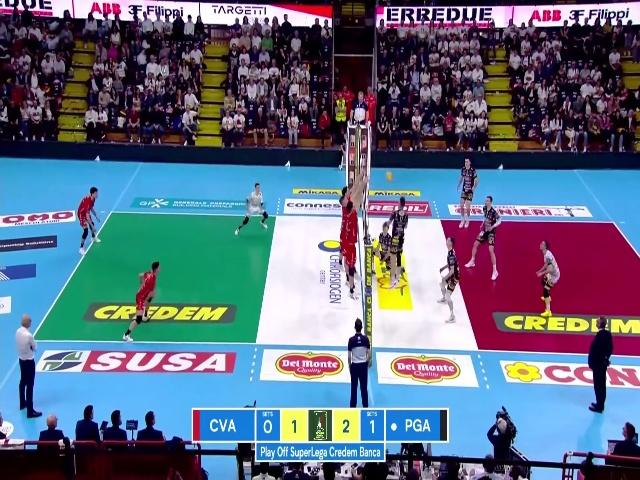volleyball court: (26, 209, 639, 354)
